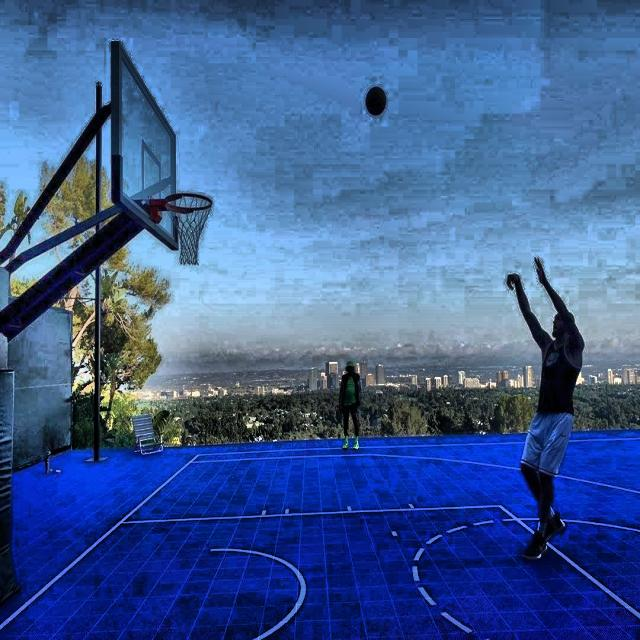rim: (163, 191, 214, 266)
